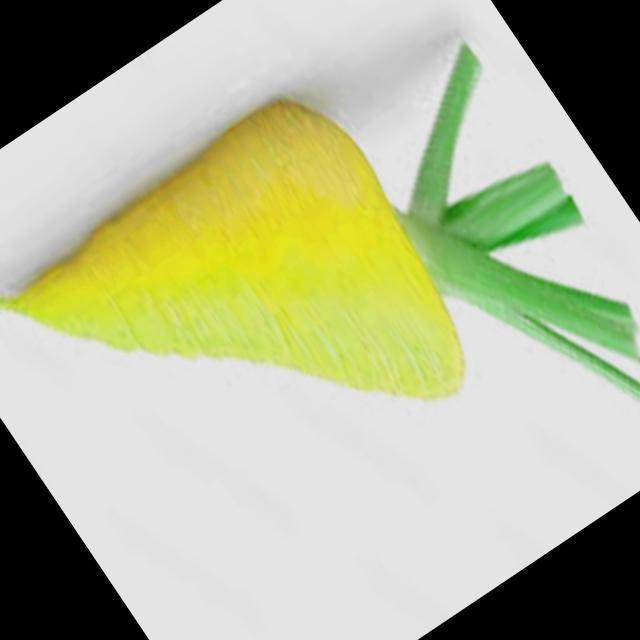carrot: (0, 45, 640, 398)
